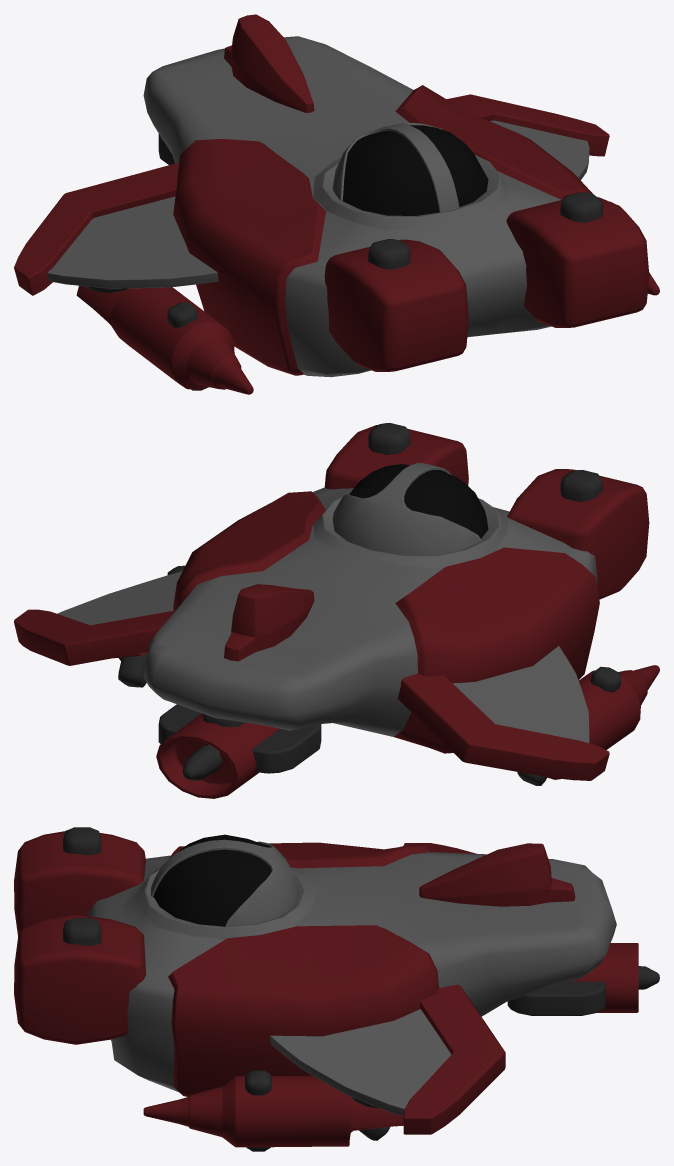
The model's file is LittleEnnemy4.glb.
3 views of the same model, one above another, from view 1: azimuth 30°, elevation 25°; view 2: azimuth 150°, elevation 25°; view 3: azimuth 270°, elevation 25° (orthographic). The views are drawn at different scales.
Parts seen in each view (by area): view 1: Ship_enemy_04_Hull, Ship_enemy_04_Wing_R, Ship_enemy_04_Weapon_R, Ship_enemy_04_Wing_L; view 2: Ship_enemy_04_Hull, Ship_enemy_04_Wing_R, Ship_enemy_04_Engine, Ship_enemy_04_Wing_L, Ship_enemy_04_Weapon_R, Ship_enemy_04_Weapon_L; view 3: Ship_enemy_04_Hull, Ship_enemy_04_Wing_L, Ship_enemy_04_Weapon_L, Ship_enemy_04_Engine.
Part boxes in pixels (left/top/right/bottom): Ship_enemy_04_Hull: left=143, top=14, right=649, bottom=377; Ship_enemy_04_Wing_R: left=14, top=162, right=218, bottom=295; Ship_enemy_04_Weapon_R: left=76, top=285, right=253, bottom=394; Ship_enemy_04_Wing_L: left=447, top=94, right=609, bottom=180; Ship_enemy_04_Hull: left=143, top=423, right=649, bottom=753; Ship_enemy_04_Wing_R: left=397, top=646, right=609, bottom=780; Ship_enemy_04_Engine: left=156, top=704, right=321, bottom=798; Ship_enemy_04_Wing_L: left=14, top=571, right=182, bottom=665; Ship_enemy_04_Weapon_R: left=517, top=665, right=659, bottom=785; Ship_enemy_04_Weapon_L: left=114, top=565, right=184, bottom=687; Ship_enemy_04_Hull: left=14, top=827, right=616, bottom=1096; Ship_enemy_04_Wing_L: left=270, top=984, right=505, bottom=1134; Ship_enemy_04_Weapon_L: left=143, top=1070, right=403, bottom=1151; Ship_enemy_04_Engine: left=507, top=943, right=659, bottom=1015.
Bounding box in the file's own units: 6.28 × 2.27 × 6.25.
Materials: 1 (1 with a texture image).
